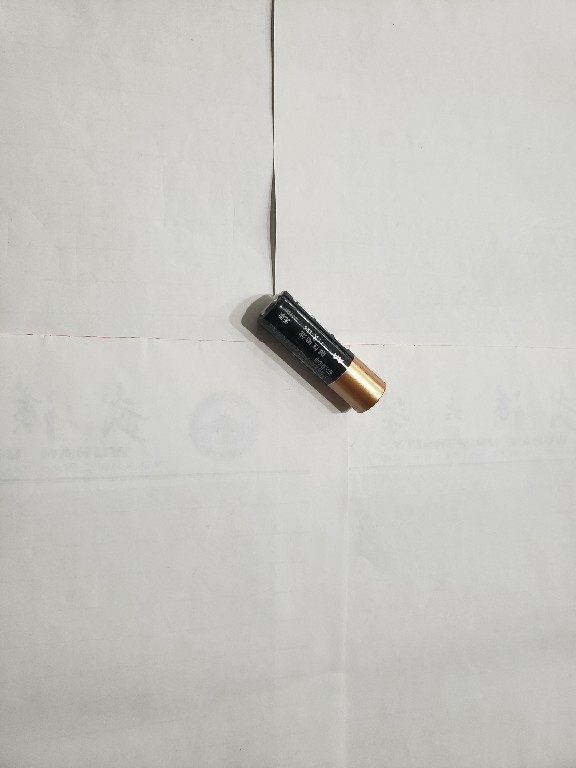charge: (257, 292, 390, 417)
